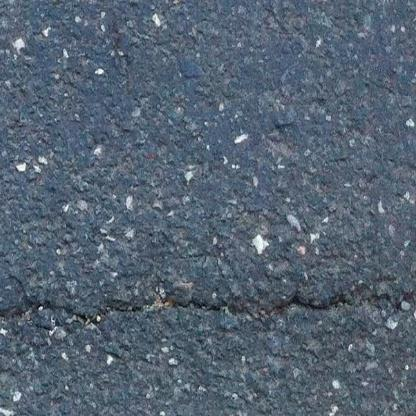Cracks: (70, 296, 226, 332), (263, 292, 353, 319), (0, 300, 39, 325)
